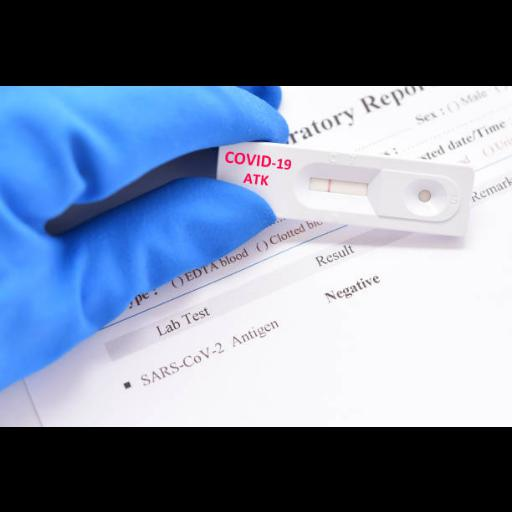Neg: (213, 139, 474, 236)
